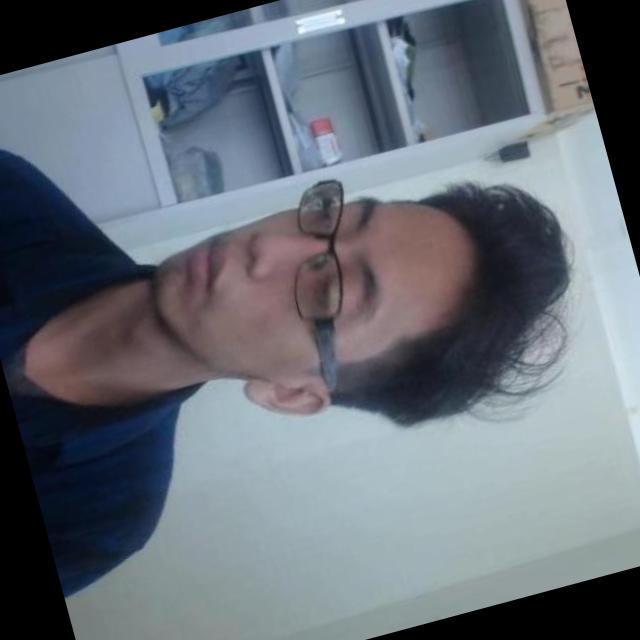bareface: (95, 75, 626, 522)
